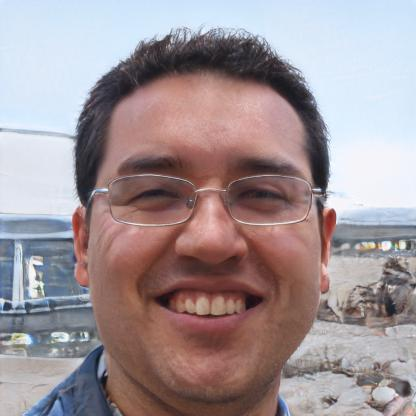glasses: (89, 171, 329, 230)
